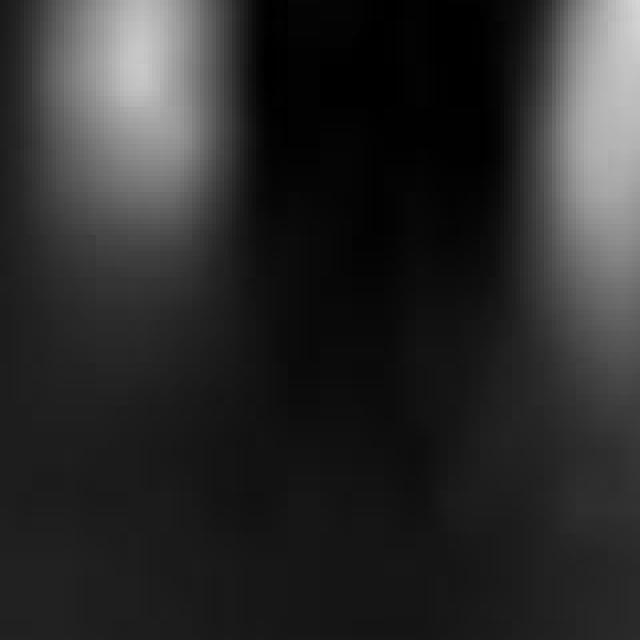person: (485, 1, 640, 604), (25, 1, 297, 300)
